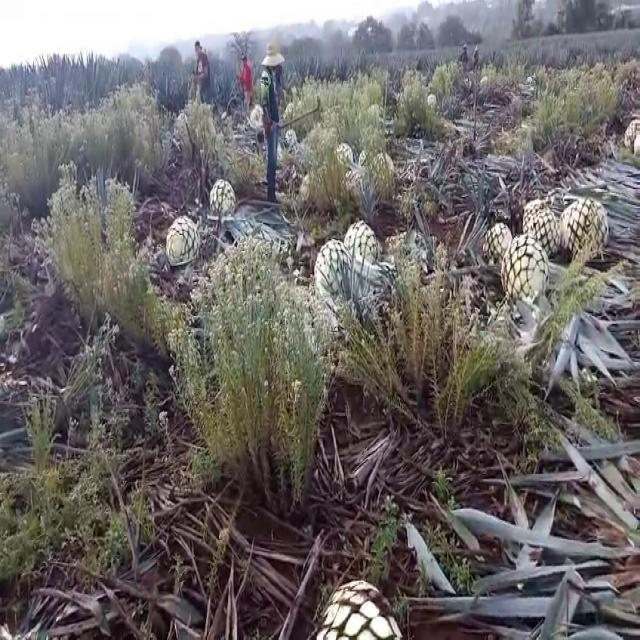agave: (313, 568, 397, 640), (498, 232, 551, 317), (305, 232, 354, 306), (560, 185, 608, 258), (338, 208, 379, 268), (164, 212, 202, 276), (524, 200, 559, 258), (485, 211, 515, 270), (209, 179, 236, 226)
